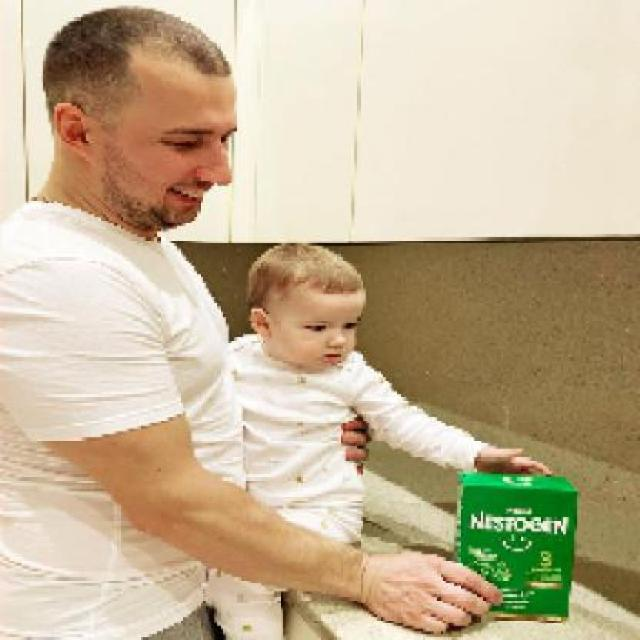child: (202, 240, 555, 637)
